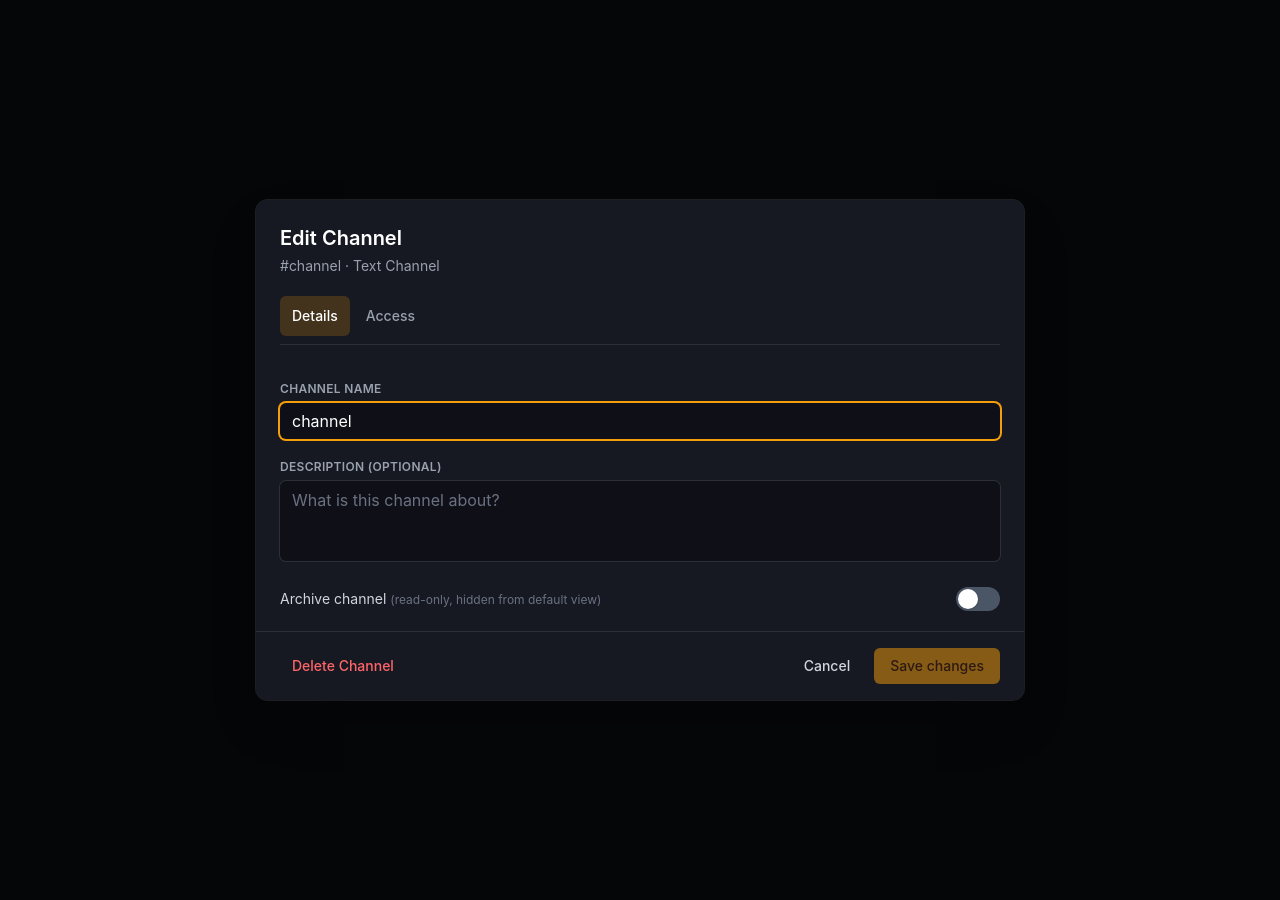
Scenario: preserves unedited bits and keeps a failed/conflicting draft available for review
The width and height of the screenshot is (1280, 900).
Click the tab "Access".
click(390, 316)  # box [354,296,427,336]
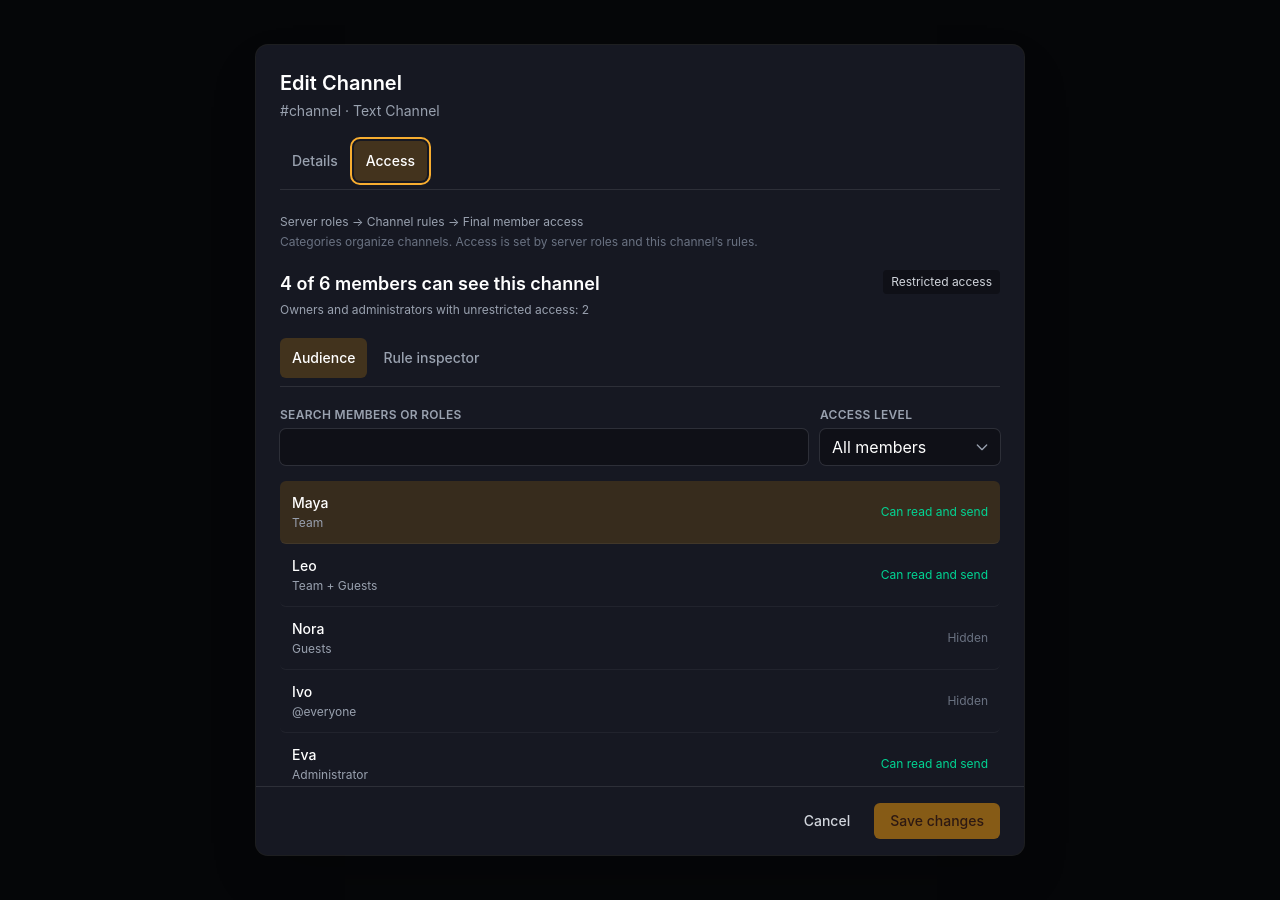
expect the heading "4 of 6 members can see this channel" is shown: met, box [280,270,600,298]
Click the tab "Rule inspector".
click(431, 358)  # box [372,338,491,378]
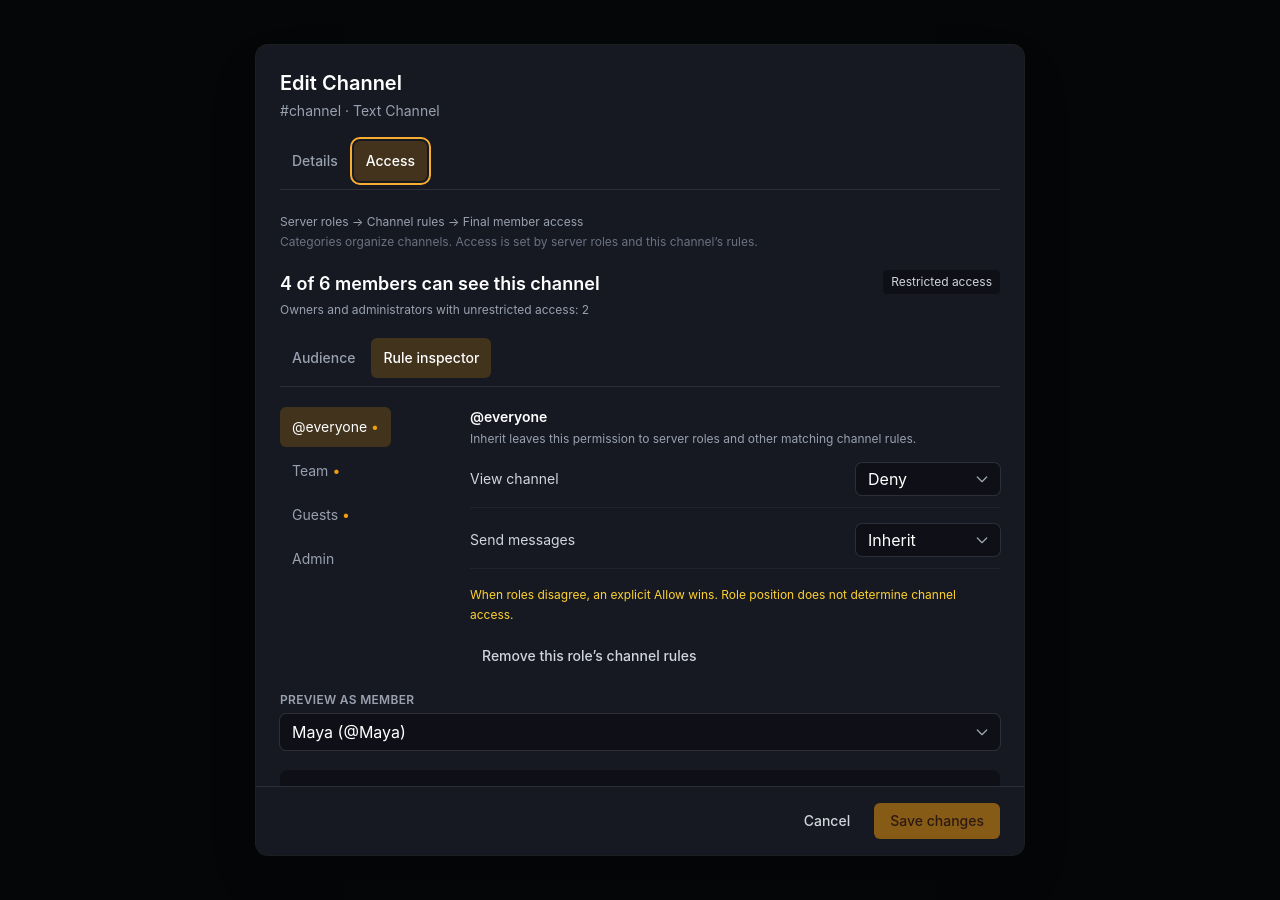
Click the button "Team•".
click(336, 471)  # box [280,451,391,491]
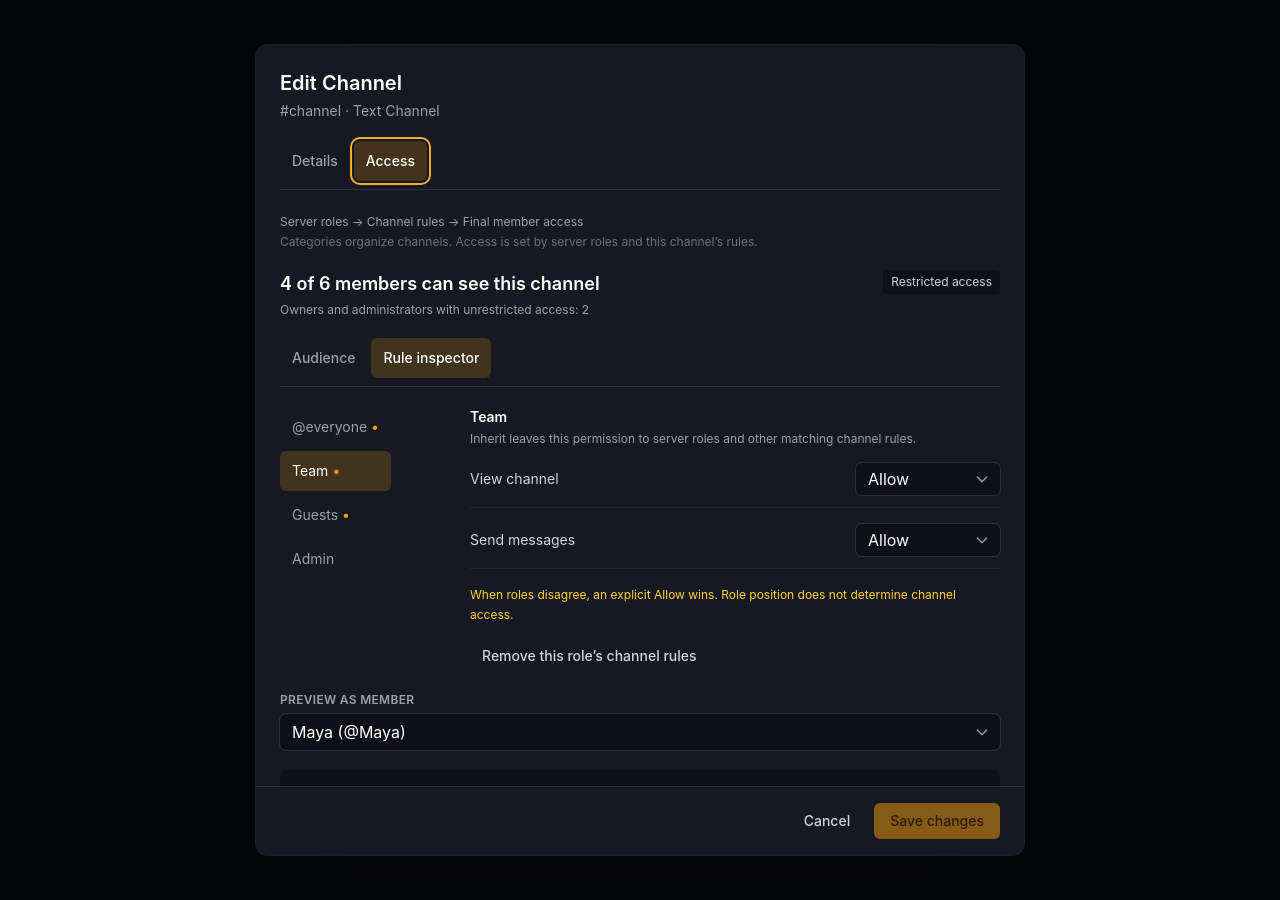
Select "Inherit" in the dropdown named "Send messages for Team" at (928, 540), box [856,524,1000,556]
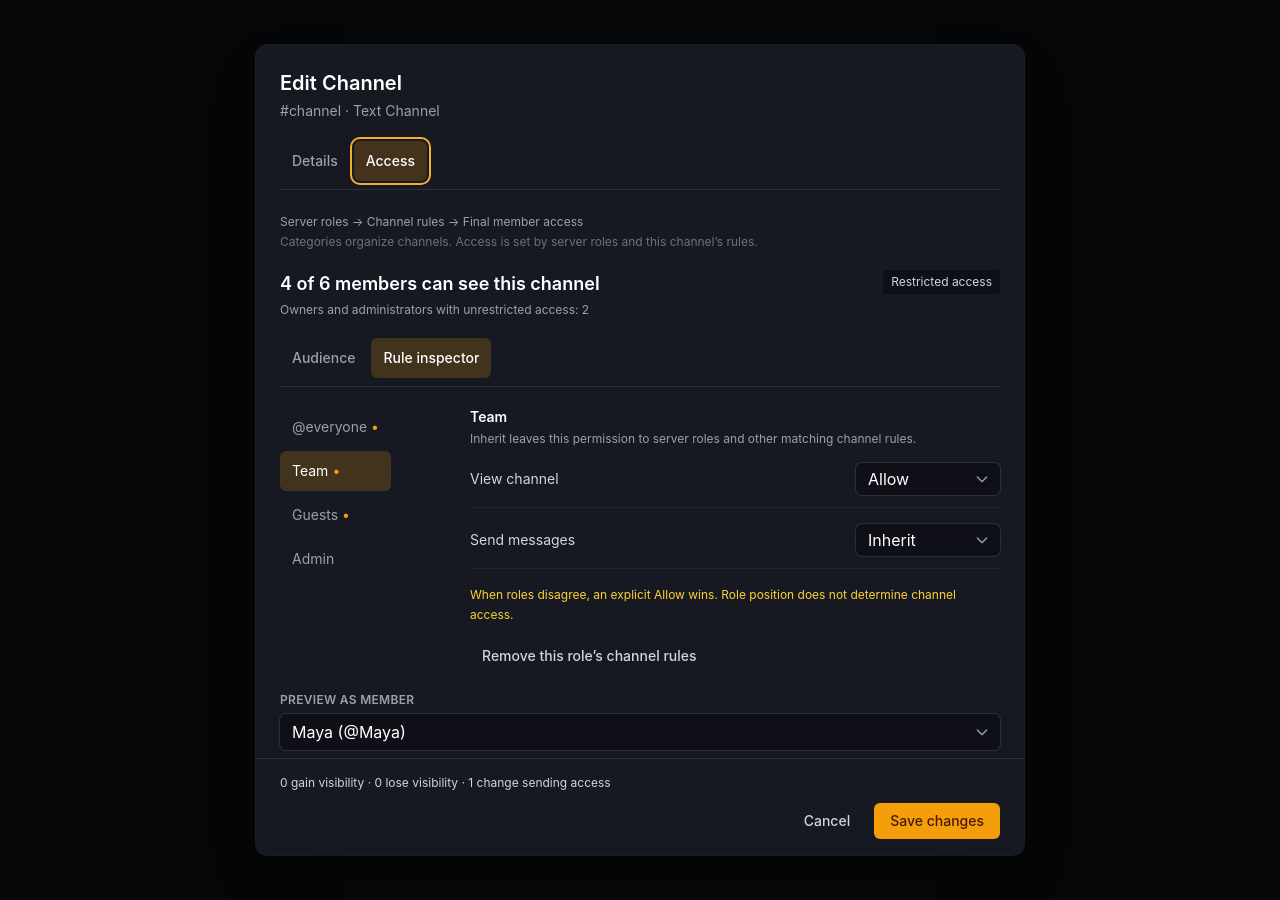
Click the button "Save changes".
click(937, 821)  # box [874,803,1000,839]
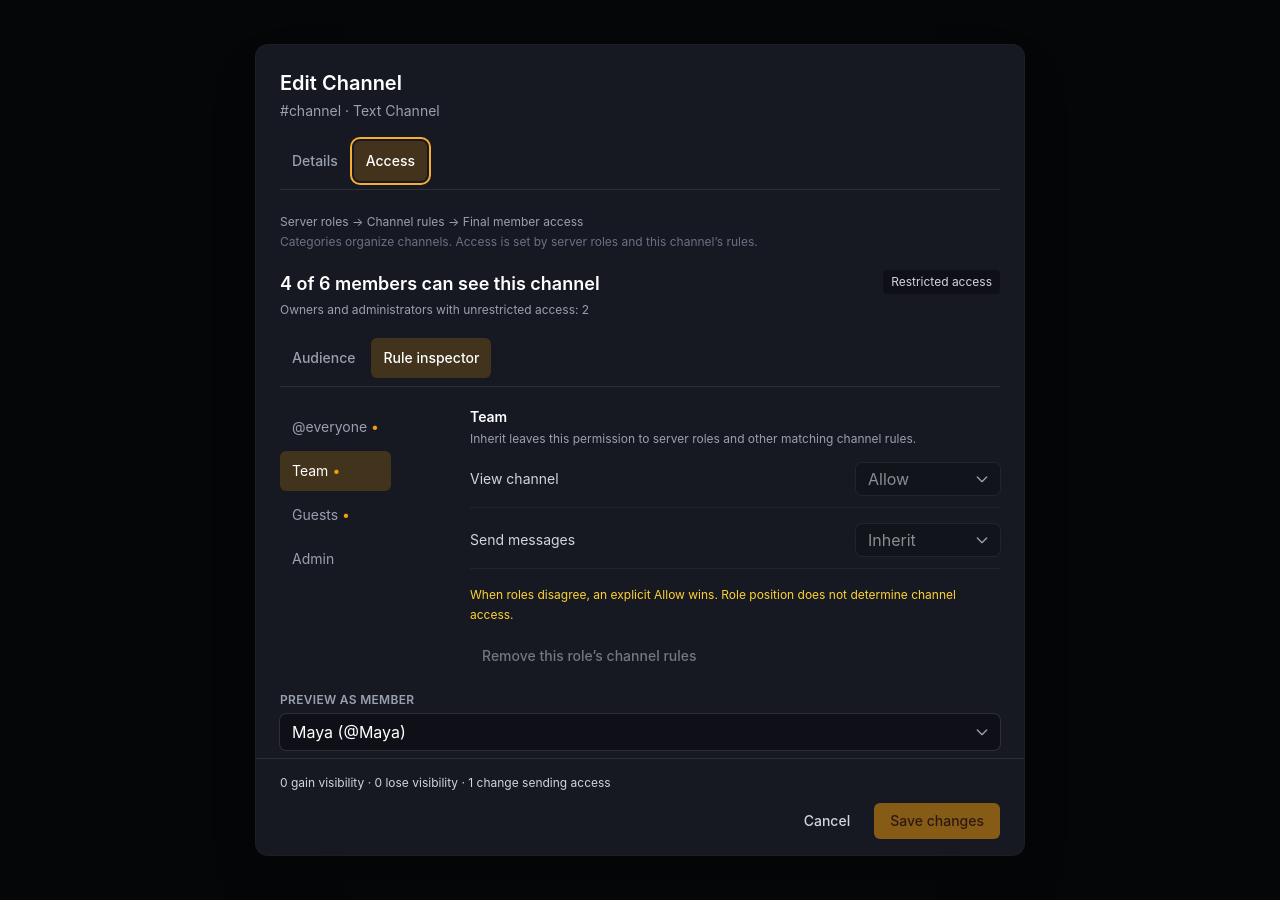
expect the button "Save changes" is disabled: met, box [874,803,1000,839]
